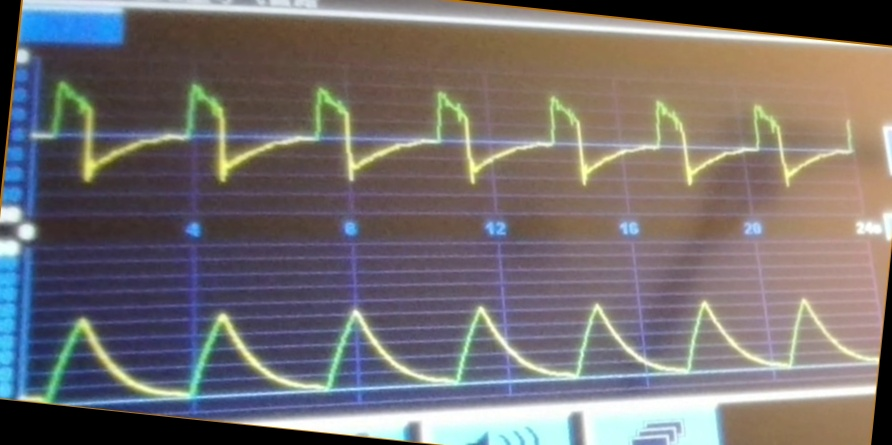Accumulation Flow: (39, 69, 853, 209)
Volume: (31, 279, 873, 402)
